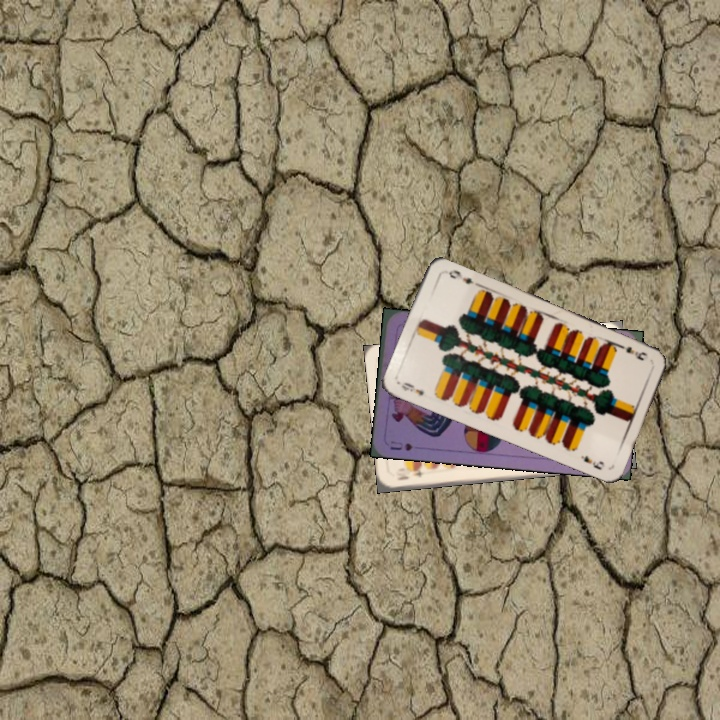E10: (392, 464, 431, 483)
E9: (614, 340, 650, 362), (397, 378, 427, 398)
SU: (386, 437, 415, 453)
